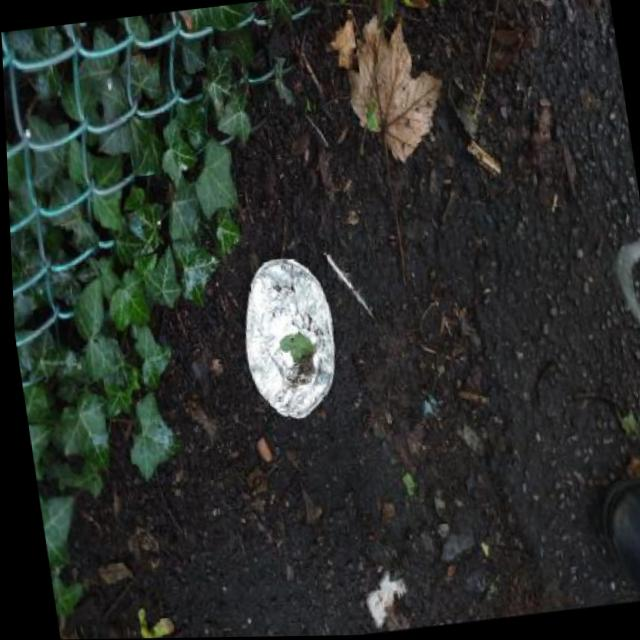metal: (233, 254, 347, 426)
